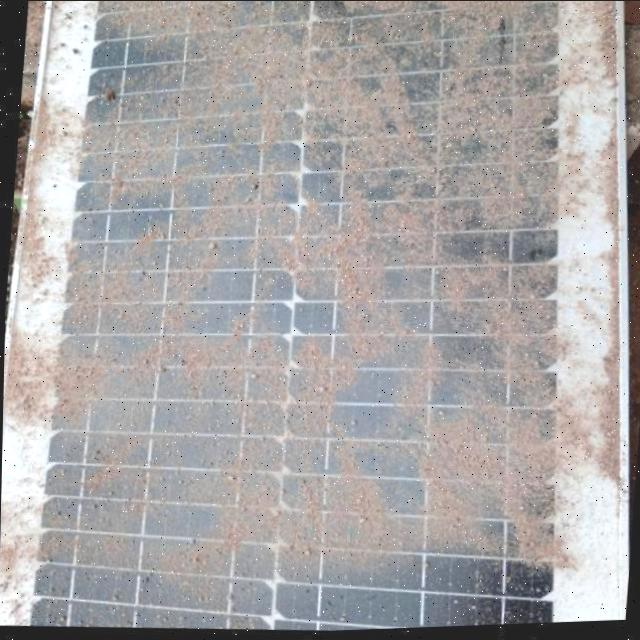Surface Contaminant: (22, 0, 615, 596)
